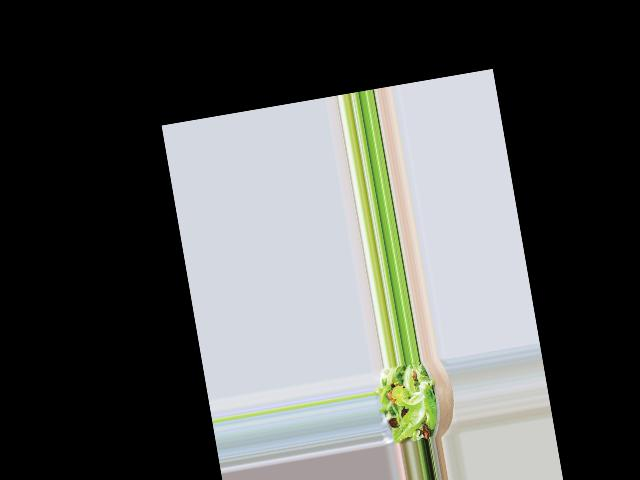lettuce: (376, 364, 441, 439)
